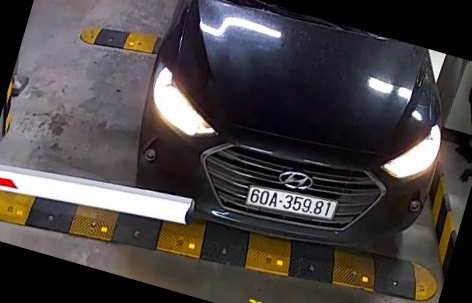plate: (237, 184, 340, 227)
